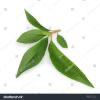Peach leaf: (48, 39, 94, 88), (15, 38, 48, 79), (23, 8, 51, 31), (14, 29, 48, 44), (57, 34, 69, 50)
